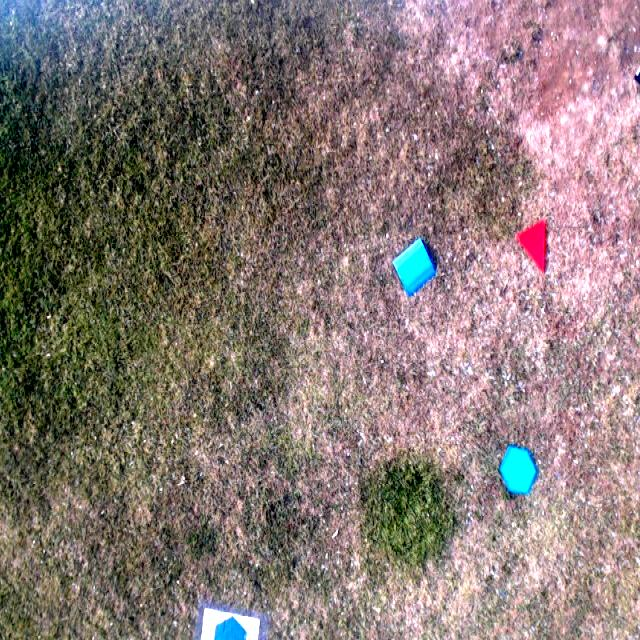blue_hexagon: (501, 446, 535, 494)
blue_square: (394, 238, 435, 297)
red_triangle: (516, 218, 546, 274)
